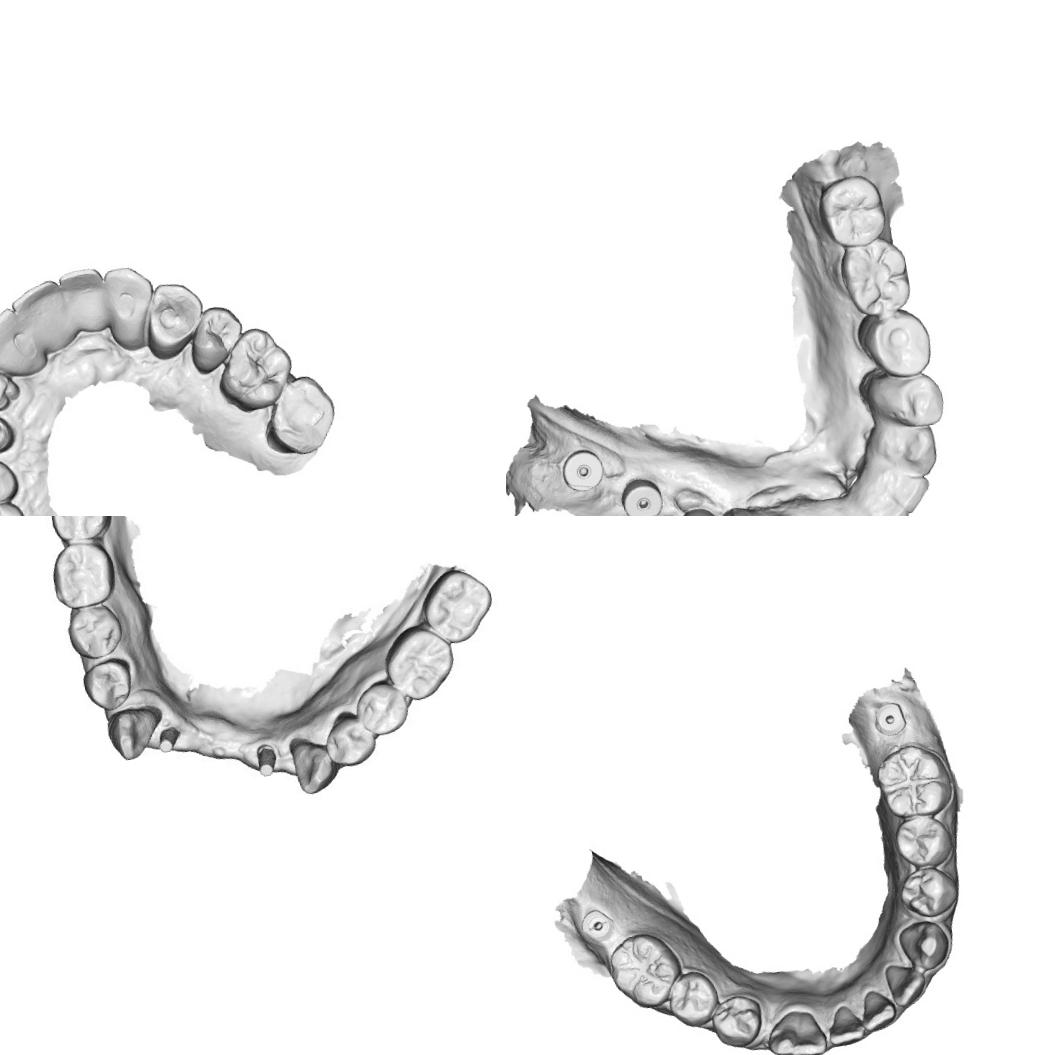abutment: (246, 734, 280, 782), (150, 722, 187, 762)
canine: (98, 261, 162, 353), (102, 700, 166, 764), (893, 916, 954, 975), (884, 418, 941, 478), (286, 730, 339, 793), (760, 1008, 806, 1055), (0, 399, 17, 460)
implant: (558, 446, 604, 496), (869, 697, 910, 739), (617, 476, 660, 516), (676, 507, 719, 516)
implant_minus: (577, 904, 618, 946)
incisor: (6, 278, 70, 356), (0, 302, 49, 385), (57, 264, 112, 336), (880, 958, 929, 1011), (821, 999, 869, 1050), (783, 1006, 831, 1055), (888, 470, 934, 516), (856, 986, 900, 1034), (0, 350, 22, 418), (865, 492, 912, 516)
molar: (210, 322, 298, 416), (602, 924, 690, 1015), (870, 736, 960, 824), (256, 370, 341, 460), (415, 560, 501, 648), (835, 236, 917, 320), (376, 620, 456, 704), (44, 532, 122, 616), (813, 168, 890, 250), (41, 516, 116, 549)
premolar: (136, 277, 210, 362), (865, 360, 948, 434), (859, 304, 935, 382), (183, 301, 249, 376), (348, 674, 418, 742), (60, 599, 128, 667), (321, 704, 385, 776), (890, 810, 958, 873), (78, 650, 142, 716), (894, 861, 962, 922), (661, 965, 724, 1030), (705, 989, 769, 1052), (0, 450, 21, 508)
